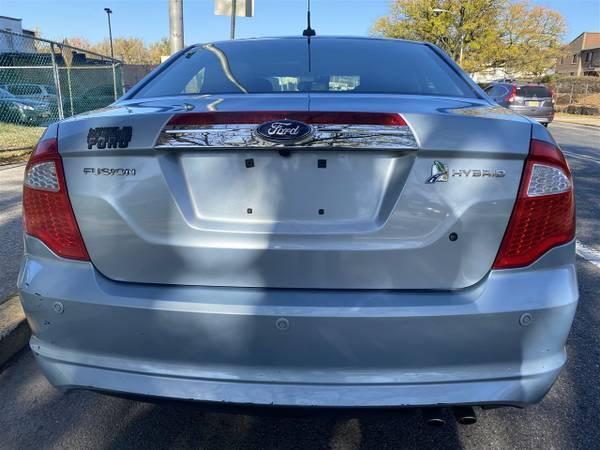Left_Taillight: (20, 123, 90, 262)
Rear_Bumper: (17, 235, 580, 412)
Rear_Windshield: (120, 37, 486, 101)
Right_Taillight: (491, 127, 575, 267)
Tailgate: (58, 91, 531, 294)
